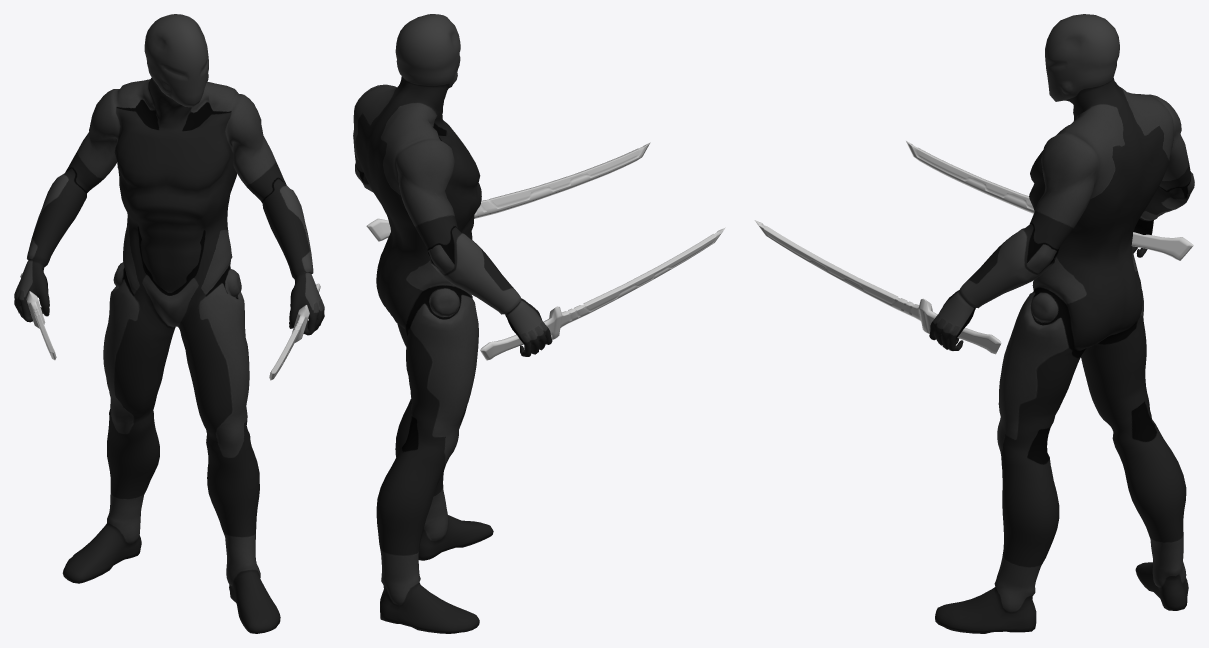
3 views of the same model, side by side, from view 1: azimuth 30°, elevation 25°; view 2: azimuth 150°, elevation 25°; view 3: azimuth 270°, elevation 25° (orthographic). The views are drawn at different scales.
Visible parts, largest first — view 1: Cyborg_Ninja_Killer, Sword_l, Sword_l001; view 2: Cyborg_Ninja_Killer, Sword_l001, Sword_l; view 3: Cyborg_Ninja_Killer, Sword_l, Sword_l001.
Boxes of the visible parts, x1,y1,x2,y2 form: Cyborg_Ninja_Killer: (14, 14, 324, 633); Sword_l: (269, 283, 320, 380); Sword_l001: (20, 273, 56, 360); Cyborg_Ninja_Killer: (353, 14, 552, 633); Sword_l001: (480, 227, 725, 360); Sword_l: (366, 142, 650, 241); Cyborg_Ninja_Killer: (929, 14, 1194, 633); Sword_l: (754, 220, 1001, 354); Sword_l001: (906, 141, 1193, 260).
Bounding box in the file's own units: 105 × 182 × 123.
